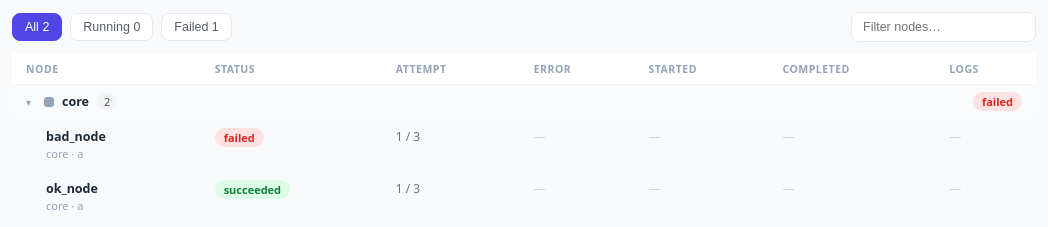
RunNodeTable › filters to failed nodes only
Check: the text "ok_node" is shown, box [46,180,98,197]
Click the button "Failed 1".
click(197, 27)  # box [161,13,232,41]
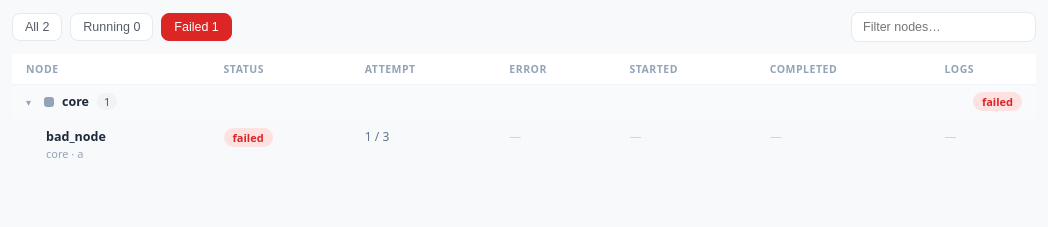
Check: the text "bad_node" is shown, box [46,128,106,145]
Check: the text "ok_node" is gone
